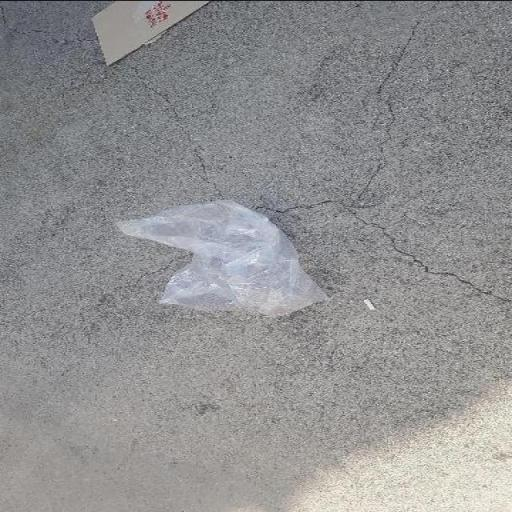plastic-bag: (114, 195, 333, 316)
